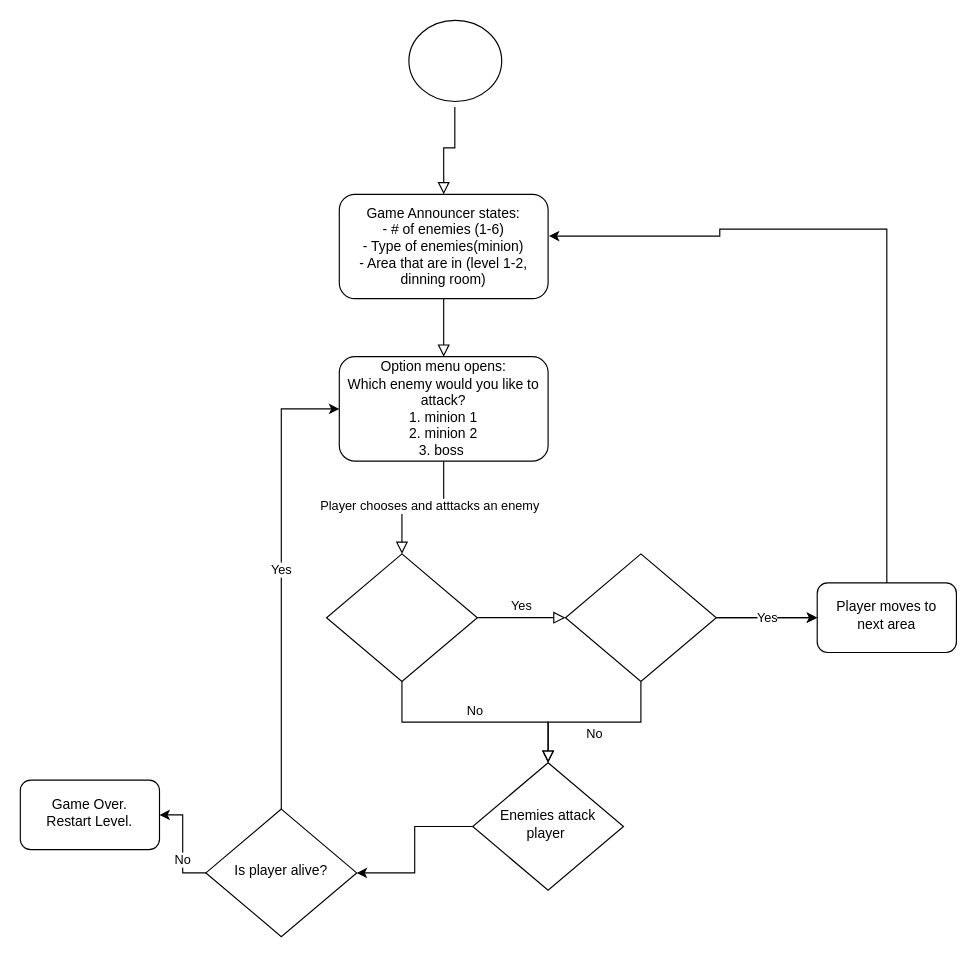
This 977x957 diagram has some shape labels left out. The centre of each missing label's shape, as x and y in pixels:
Are all enemies eliminated?: point (640, 617)
Is selected enemy elimited?: point (401, 617)
Start: point (455, 60)
